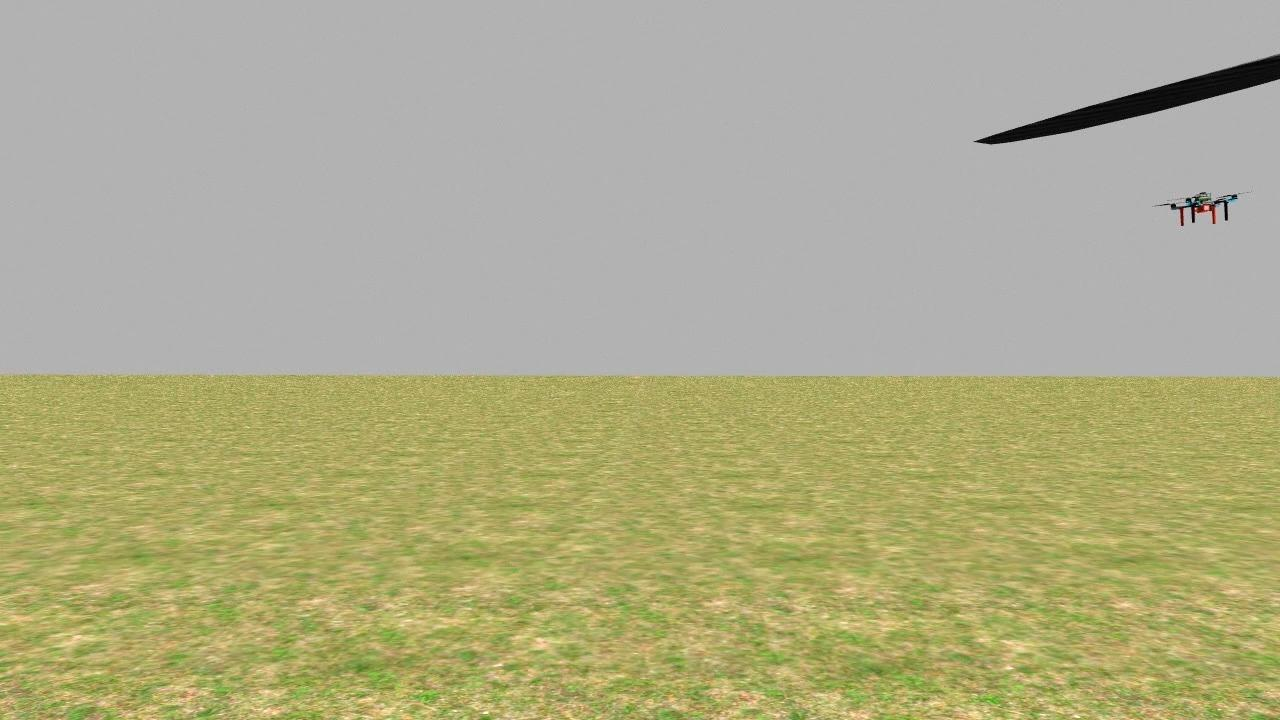UAV: (1148, 175, 1251, 244)
